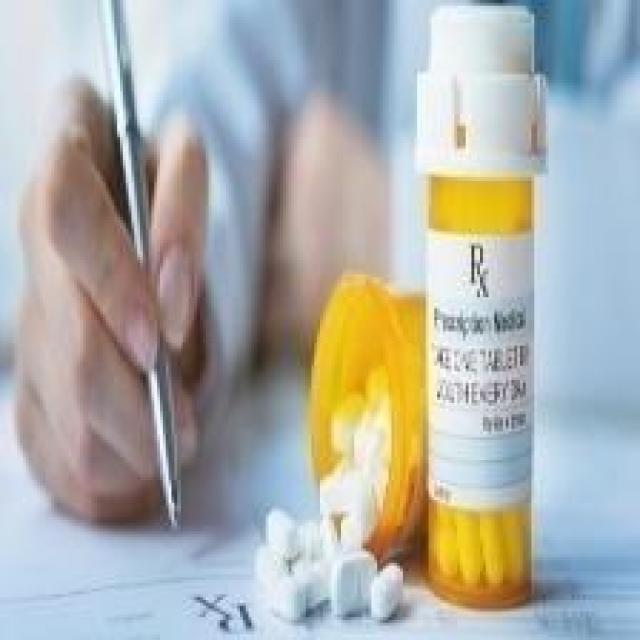Medicine: (260, 25, 556, 637)
